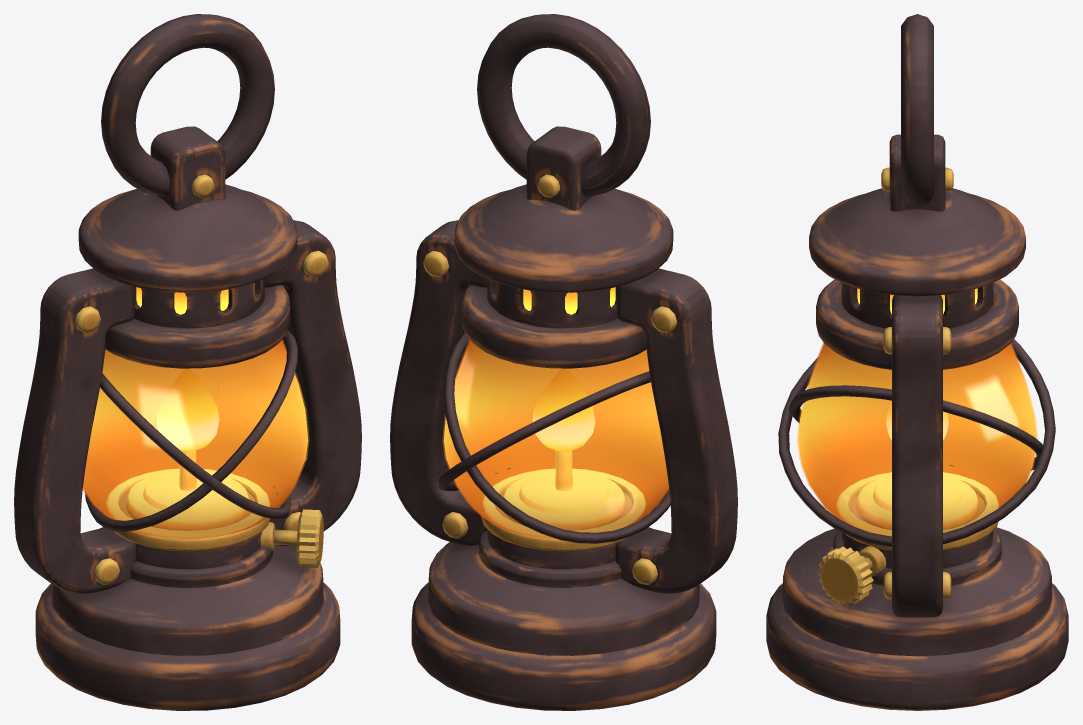
The model's file is lantern.glb.
The picture shows the model from 3 angles, left to right: view 1: azimuth 30°, elevation 25°; view 2: azimuth 150°, elevation 25°; view 3: azimuth 270°, elevation 25°; orthographic projection.
Parts seen in each view (by area): view 1: lantern; view 2: lantern; view 3: lantern.
Part boxes in pixels (x1,y1,x2,y2): lantern: (14,14,361,710); lantern: (390,14,737,710); lantern: (766,14,1068,710).
Bounding box in the file's own units: 0.163 × 0.3 × 0.131.
Materials: 2 (2 with a texture image).
